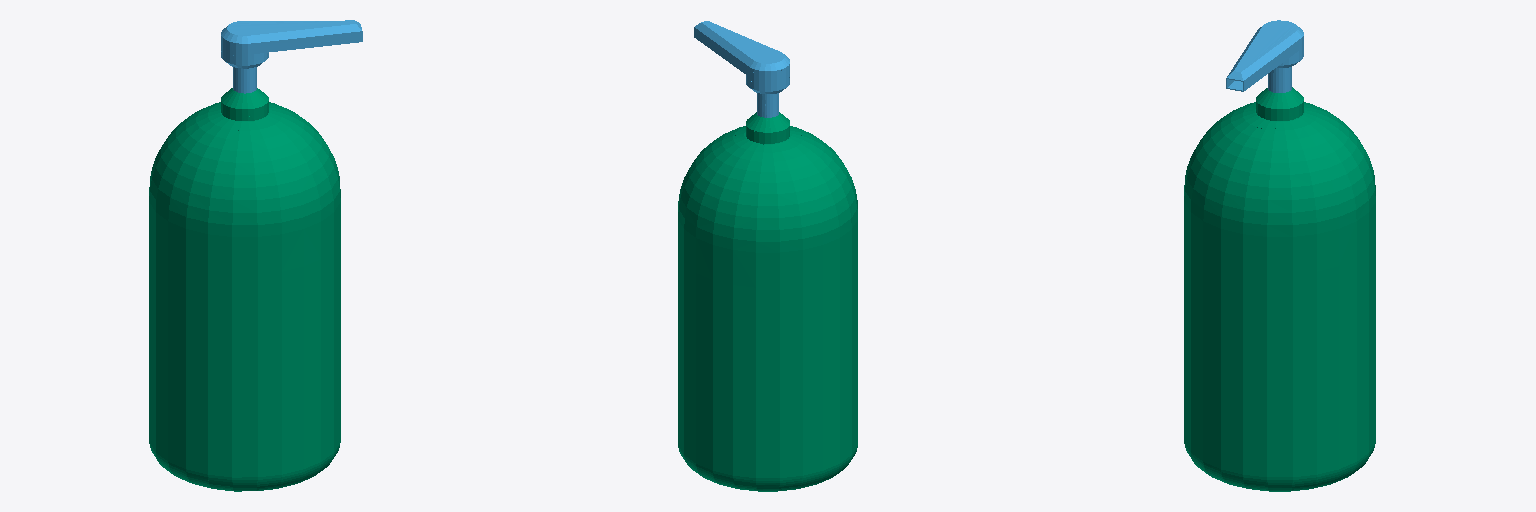
The robot description file, URDF, robot "partnet_5ca994bd512be485db3bac7ad77ae88e":
<?xml version="1.0" ?>
<robot name="partnet_5ca994bd512be485db3bac7ad77ae88e">
	<link name="base"/>
	<link name="link_0">
		<visual name="mouth-8">
			<origin xyz="-0.004069706478648613 0 -0.007451467190511252"/>
			<geometry>
				<mesh filename="textured_objs/new_0.obj"/>
			</geometry>
		</visual>
		<visual name="mouth-8">
			<origin xyz="-0.004069706478648613 0 -0.007451467190511252"/>
			<geometry>
				<mesh filename="textured_objs/new_1.obj"/>
			</geometry>
		</visual>
		<visual name="mouth-8">
			<origin xyz="-0.004069706478648613 0 -0.007451467190511252"/>
			<geometry>
				<mesh filename="textured_objs/original_3.obj"/>
			</geometry>
		</visual>
		<visual name="mouth-8">
			<origin xyz="-0.004069706478648613 0 -0.007451467190511252"/>
			<geometry>
				<mesh filename="textured_objs/original_4.obj"/>
			</geometry>
		</visual>
		<collision>
			<origin xyz="-0.004069706478648613 0 -0.007451467190511252"/>
			<geometry>
				<mesh filename="textured_objs/new_0.obj"/>
			</geometry>
		</collision>
		<collision>
			<origin xyz="-0.004069706478648613 0 -0.007451467190511252"/>
			<geometry>
				<mesh filename="textured_objs/new_1.obj"/>
			</geometry>
		</collision>
		<collision>
			<origin xyz="-0.004069706478648613 0 -0.007451467190511252"/>
			<geometry>
				<mesh filename="textured_objs/original_3.obj"/>
			</geometry>
		</collision>
		<collision>
			<origin xyz="-0.004069706478648613 0 -0.007451467190511252"/>
			<geometry>
				<mesh filename="textured_objs/original_4.obj"/>
			</geometry>
		</collision>
	</link>
	<joint name="joint_0" type="continuous">
		<origin xyz="0.0 0 0.0"/>
		<axis xyz="0 1 0"/>
		<child link="link_0"/>
		<parent link="link_0_helper"/>
	</joint>
	<link name="link_1">
		<visual name="body-6">
			<origin xyz="0 0 0"/>
			<geometry>
				<mesh filename="textured_objs/new_5.obj"/>
			</geometry>
		</visual>
		<visual name="body-6">
			<origin xyz="0 0 0"/>
			<geometry>
				<mesh filename="textured_objs/new_4.obj"/>
			</geometry>
		</visual>
		<visual name="lid-7">
			<origin xyz="0 0 0"/>
			<geometry>
				<mesh filename="textured_objs/new_2.obj"/>
			</geometry>
		</visual>
		<collision>
			<origin xyz="0 0 0"/>
			<geometry>
				<mesh filename="textured_objs/new_5.obj"/>
			</geometry>
		</collision>
		<collision>
			<origin xyz="0 0 0"/>
			<geometry>
				<mesh filename="textured_objs/new_4.obj"/>
			</geometry>
		</collision>
		<collision>
			<origin xyz="0 0 0"/>
			<geometry>
				<mesh filename="textured_objs/new_2.obj"/>
			</geometry>
		</collision>
	</link>
	<joint name="joint_1" type="fixed">
		<origin rpy="1.570796326794897 0 -1.570796326794897" xyz="0 0 0"/>
		<child link="link_1"/>
		<parent link="base"/>
	</joint>
	<link name="link_0_helper">
		<inertial>
			<origin xyz="0 0 0"/>
			<mass value="1e-6"/>
			<inertia ixx="1e-10" ixy="0" ixz="0" iyy="1e-10" iyz="0" izz="1e-10"/>
		</inertial>
	</link>
	<joint name="joint_2" type="prismatic">
		<origin xyz="0.004069706478648613 0 0.007451467190511252"/>
		<axis xyz="0 -1 0"/>
		<child link="link_0_helper"/>
		<parent link="link_1"/>
		<limit lower="0" upper="0.08400000000000007"/>
	</joint>
</robot>

--- Facts derived from the render (not from the file) ---
Views: 3 orthographic renders of the robot side by side, from view 1: azimuth 30°, elevation 25°; view 2: azimuth 150°, elevation 25°; view 3: azimuth 270°, elevation 25°.
Model partnet_5ca994bd512be485db3bac7ad77ae88e with 4 links and 3 joints (1 continuous, 1 prismatic, 1 fixed), rooted at base, posed all joints at 0.
Visible links, largest first — view 1: link_1, link_0; view 2: link_1, link_0; view 3: link_1, link_0.
Boxes of the visible links, x1,y1,x2,y2 form: link_1: [149, 88, 340, 491]; link_0: [221, 20, 362, 93]; link_1: [678, 112, 857, 491]; link_0: [694, 21, 789, 117]; link_1: [1184, 87, 1375, 491]; link_0: [1226, 20, 1303, 92].
Size in the robot's own frame: 0.7216 by 0.6644 by 1.65 metres.
Meshes: 7 distinct files referenced, 7 mesh visuals loaded (7 OBJ).
